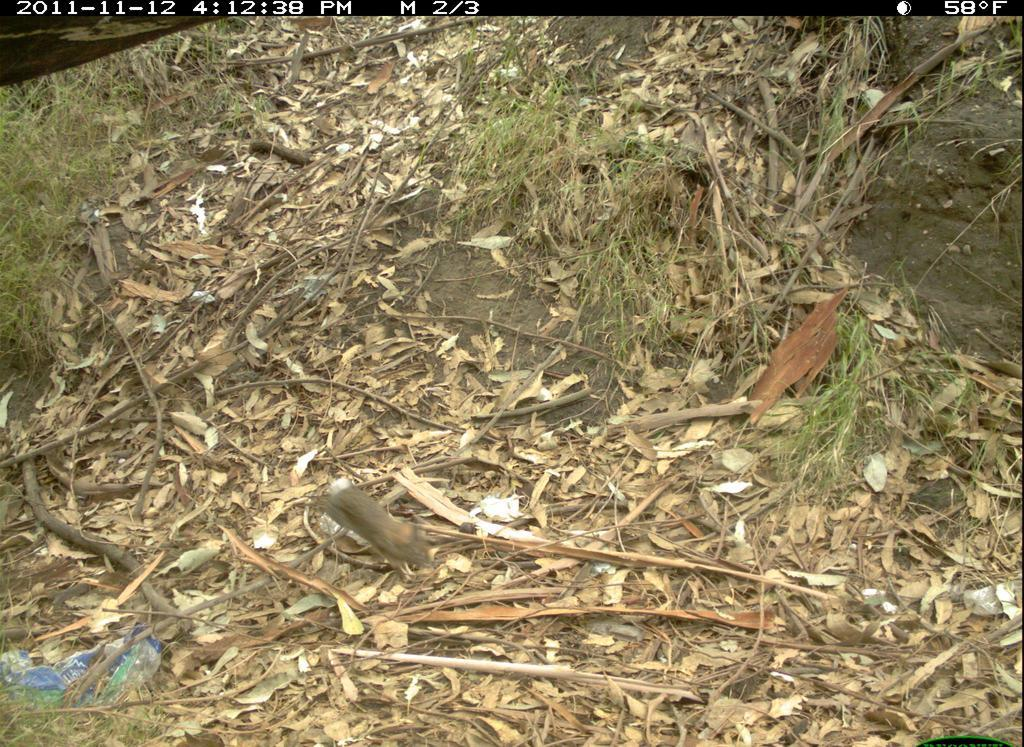rabbit: (304, 474, 440, 580)
